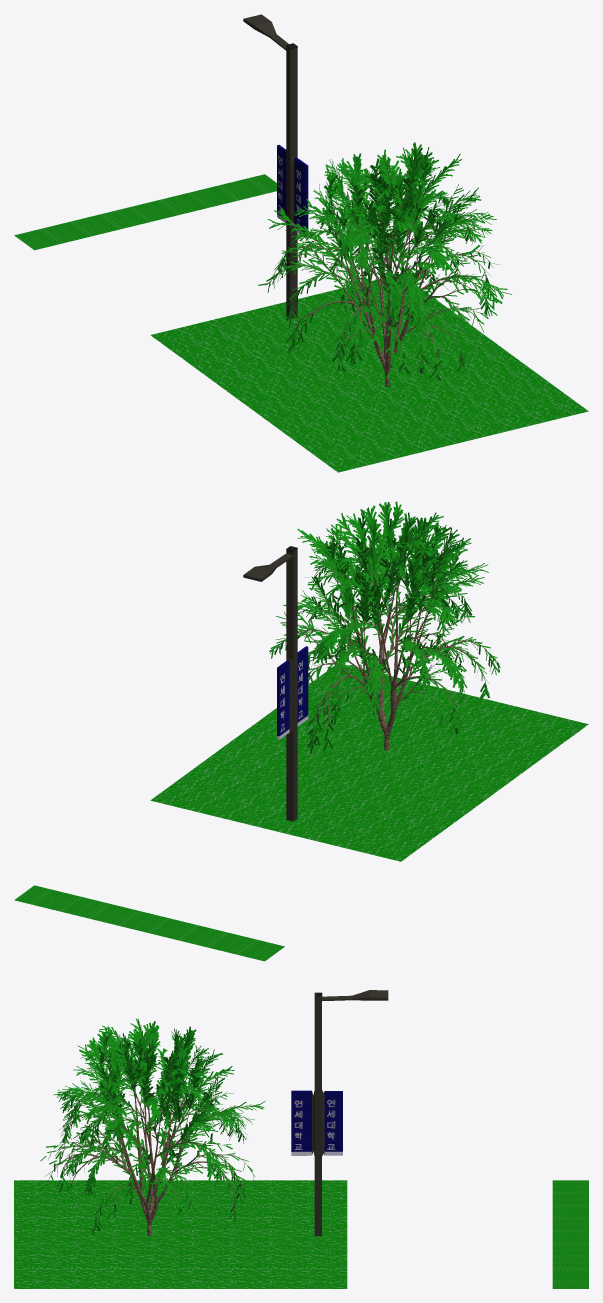
Rendered from ludeng6.obj.
3 renders of one model, top to bottom at view 1: azimuth 30°, elevation 25°; view 2: azimuth 150°, elevation 25°; view 3: azimuth 270°, elevation 25°, orthographic. The views are drawn at different scales.
Visible parts, largest first — view 1: Plane, leaves, Plane.002, tree, Cube.003, Cube.001, Cube.002; view 2: Plane, leaves, Plane.002, tree, Cube.003, Cube.002, Cube.001; view 3: Plane, leaves, tree, Plane.002, Cube.003, Cube.001, Cube.002, Cube.004.
Boxes of the visible parts, x1,y1,x2,y2 form: Plane: (150,274,588,472); leaves: (258,142,511,384); Plane.002: (14,174,276,250); tree: (268,164,497,387); Cube.003: (286,43,297,318); Cube.001: (294,157,308,237); Cube.002: (277,144,286,222); Plane: (150,664,588,861); leaves: (269,501,500,754); Plane.002: (14,885,284,961); tree: (279,518,496,750); Cube.003: (286,546,297,821); Cube.002: (277,660,289,739); Cube.001: (297,646,308,726); Plane: (14,1180,347,1288); leaves: (40,1018,265,1234); tree: (47,1033,254,1235); Plane.002: (552,1180,588,1288); Cube.003: (312,992,324,1236); Cube.001: (291,1090,311,1155); Cube.002: (324,1091,342,1155); Cube.004: (323,990,388,1000).
Size of the model in its own units: 10 by 10.78 by 22.37.
Materials: 4 (4 with a texture image).
